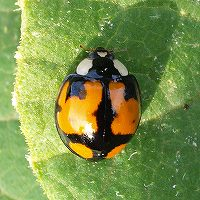Two_spots_mutant: (53, 45, 141, 161)
